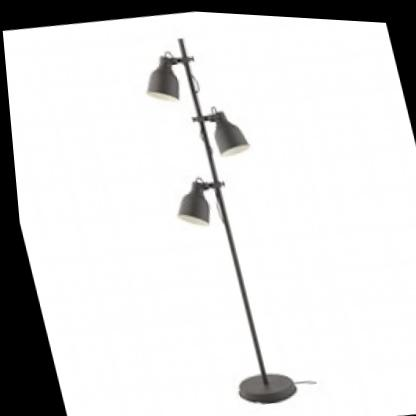Lamp: (100, 13, 324, 416)
